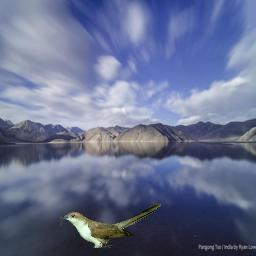Cuckoo: (60, 202, 161, 248)
